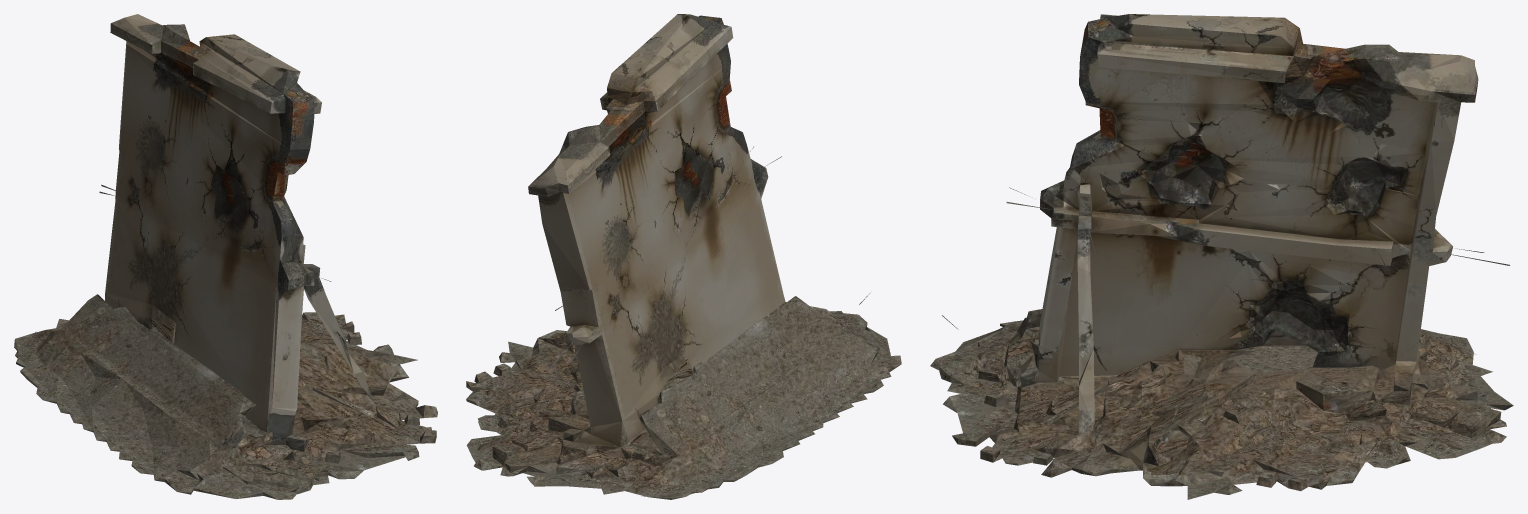
The model's file is ruined_wall_LOD0.glb.
3 views of the same model, side by side, from view 1: azimuth 30°, elevation 25°; view 2: azimuth 150°, elevation 25°; view 3: azimuth 270°, elevation 25° (orthographic). The views are drawn at different scales.
Visible parts, largest first — view 1: ruined_wall_LOD0; view 2: ruined_wall_LOD0; view 3: ruined_wall_LOD0.
Boxes of the visible parts, box(x1,y1,x2,y2) form: ruined_wall_LOD0: box(14, 14, 437, 499); ruined_wall_LOD0: box(466, 14, 901, 499); ruined_wall_LOD0: box(930, 14, 1513, 499).
Bounding box in the file's own units: 0.7481 × 0.7501 × 0.9962.
Materials: 1 (1 with a texture image).
